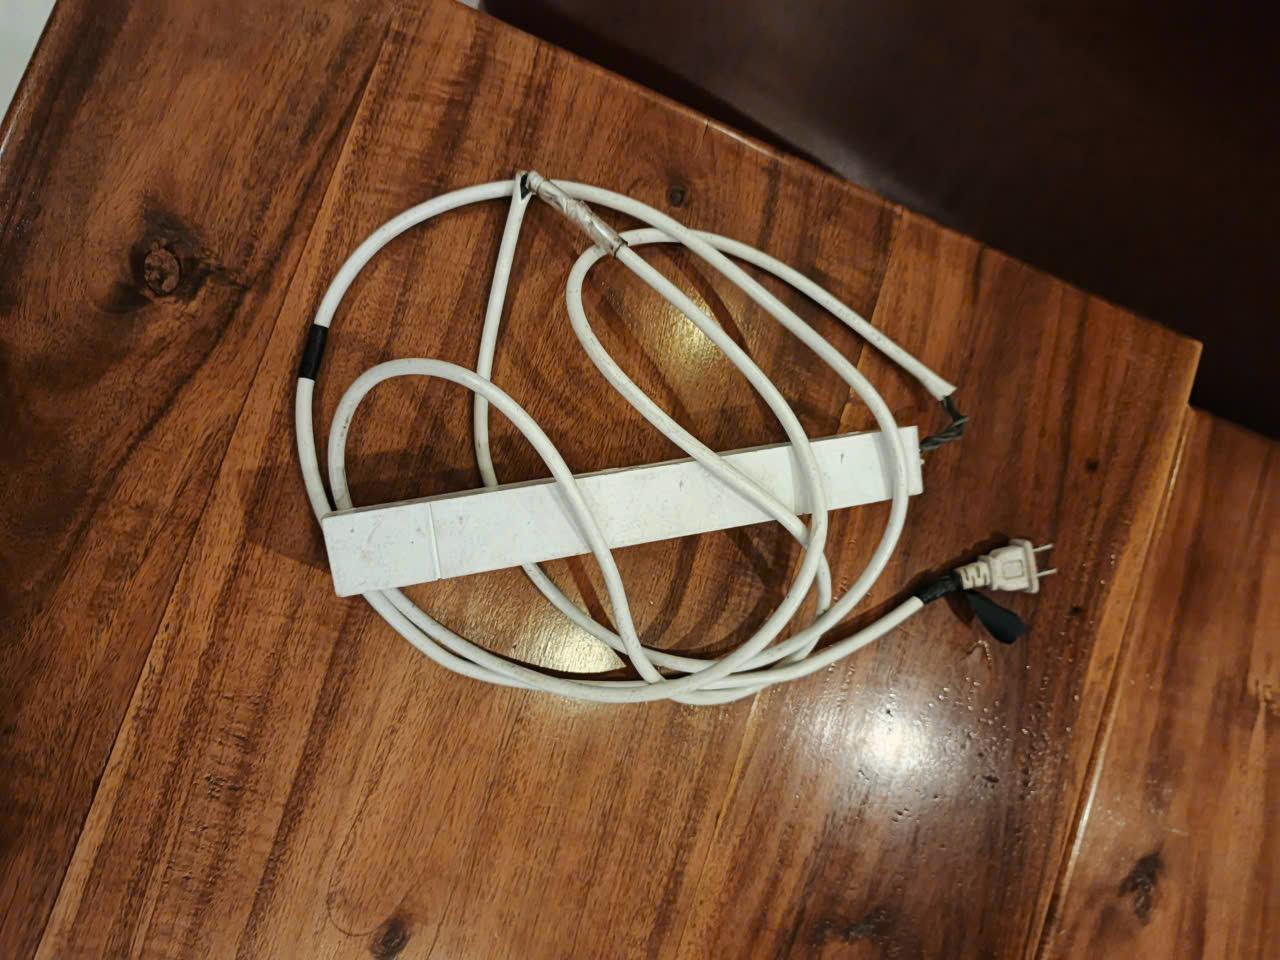Con lai: (296, 172, 1056, 708)
